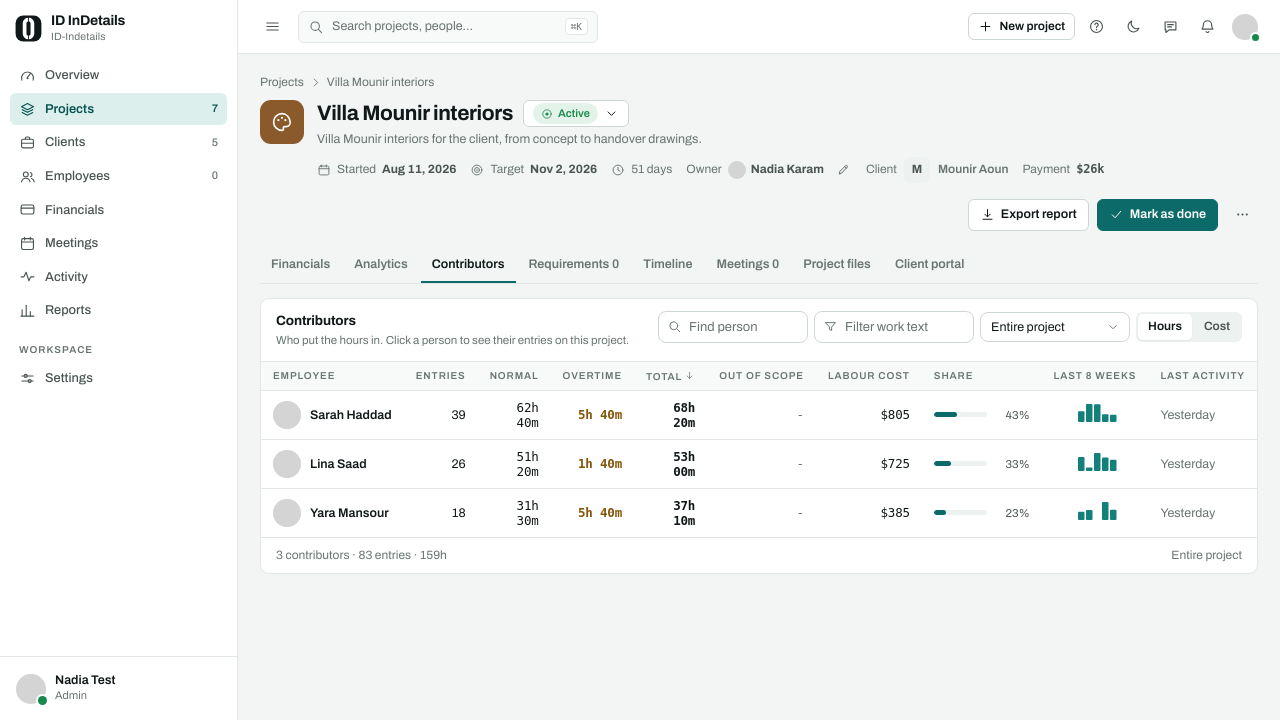
Test: a contributor and their entries › opens the person's work, then an entry, where admins can comment
Step 1. Click the text "62h 40m" → (514, 415), box [478,391,551,440]
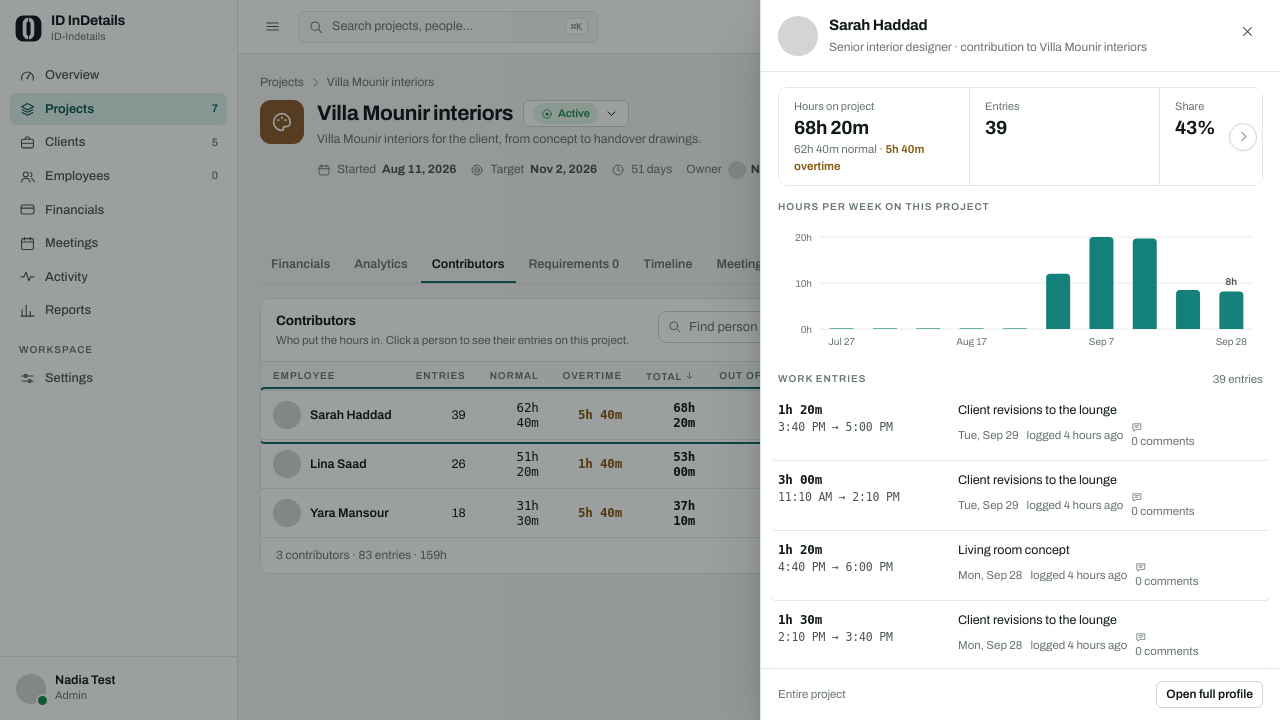
Step 2. Click the 1st text "Client revisions to the lounge" → (1037, 410), box [958,403,1117,417]
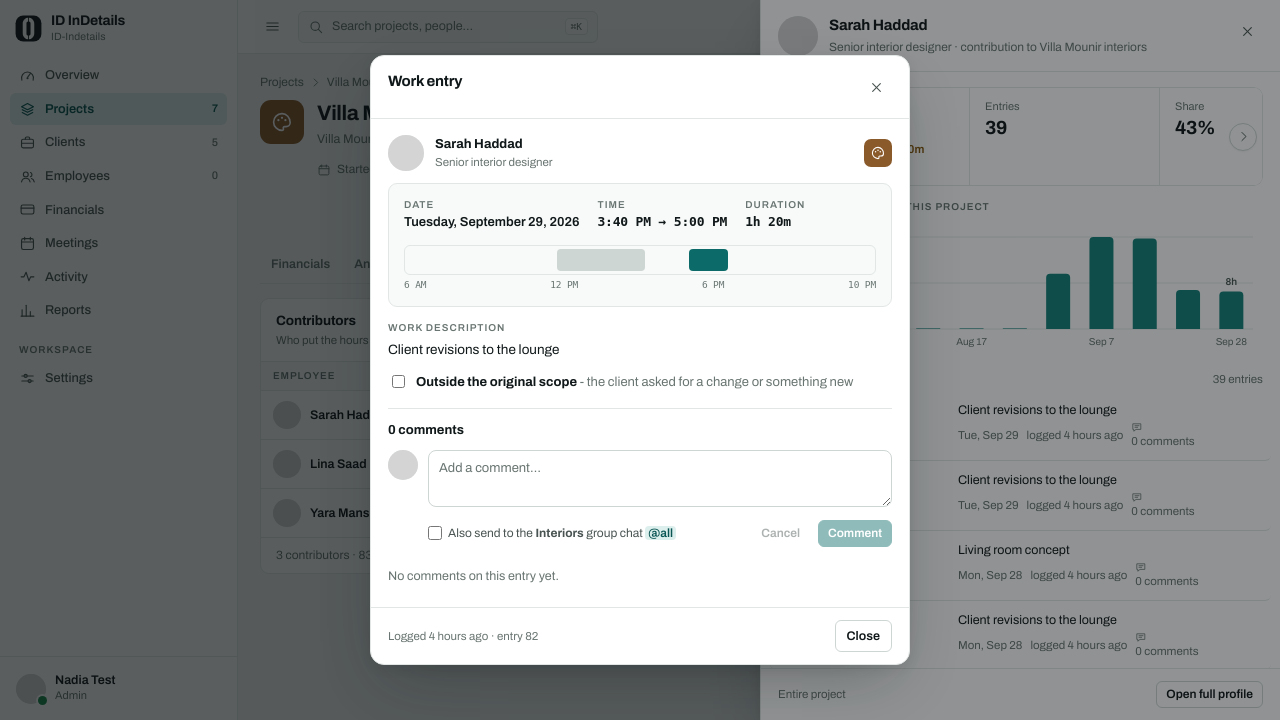
Check: the text "Work description" is shown, box [388,322,505,333]
Step 3. Type "Looks good - add the joinery detail" into the text box labelled "Add a comment" → (660, 478), box [428,450,892,507]
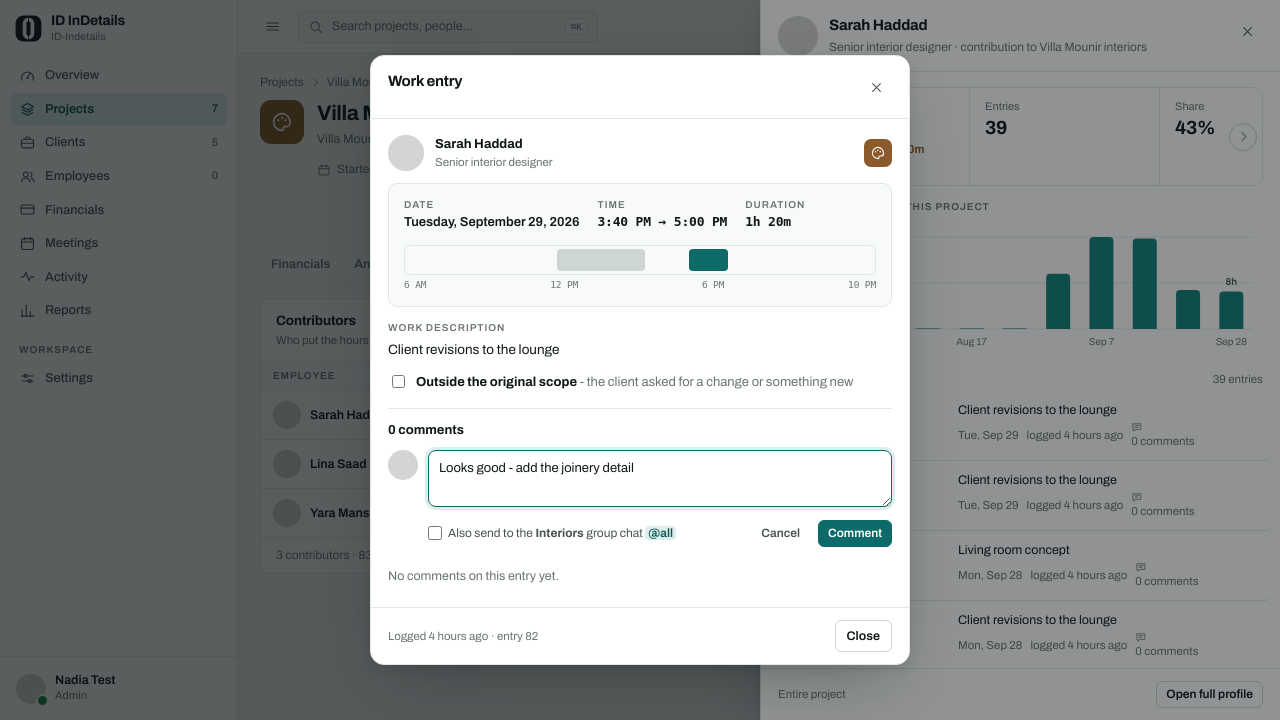
Step 4. Click the checkbox labelled "Also send to the Interiors group chat @all" → (435, 533), box [428,526,442,540]
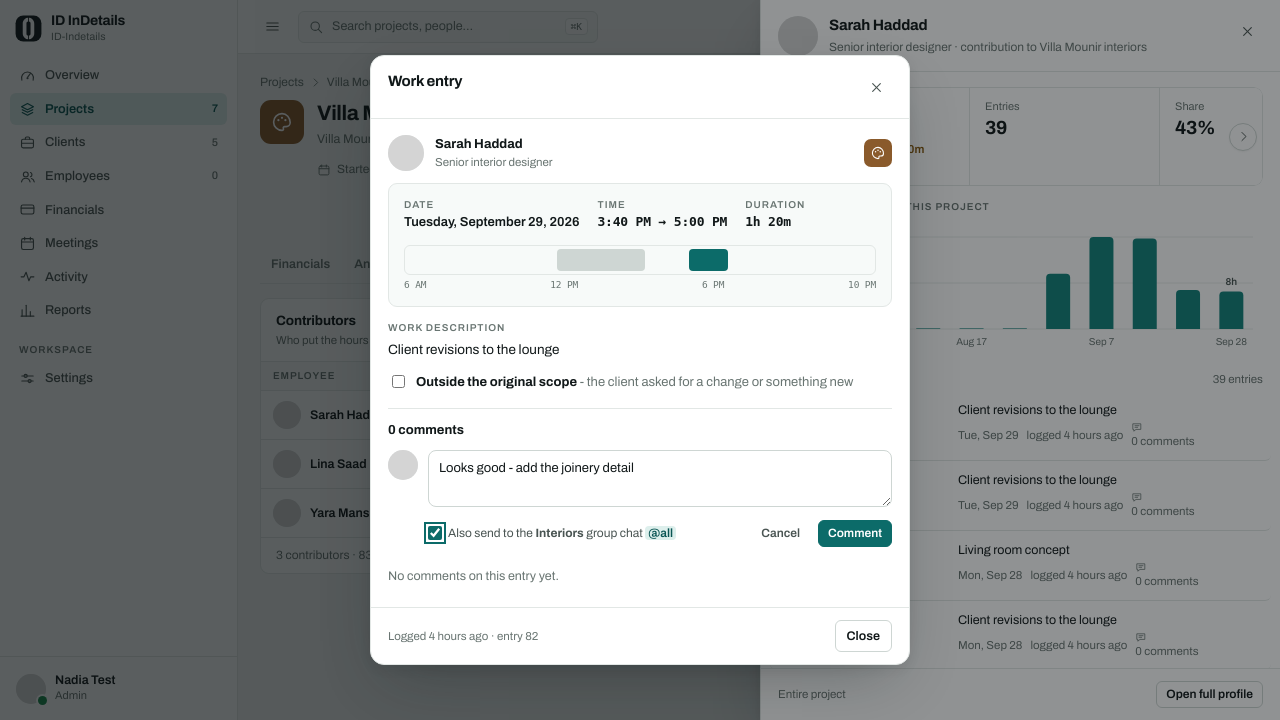
Step 5. Click the button "Comment" → (855, 533), box [818,520,892,547]
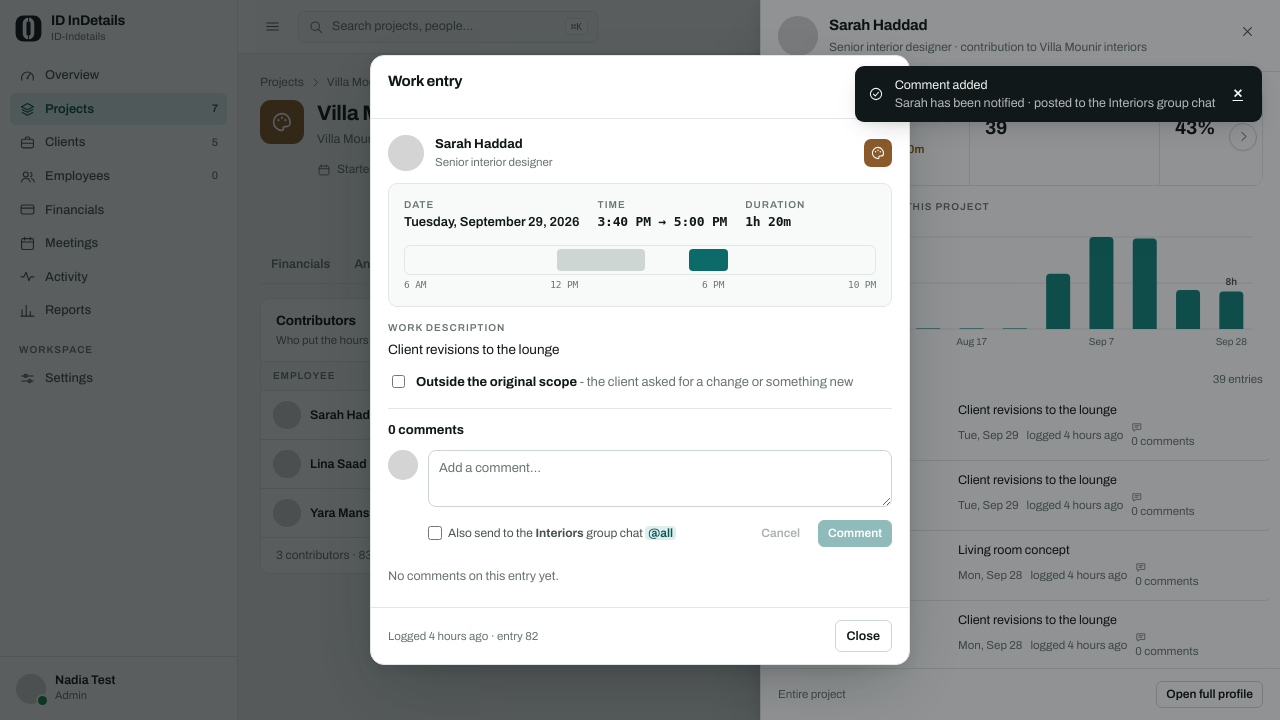
Check: the text "Comment added" is shown, box [895,78,988,92]
